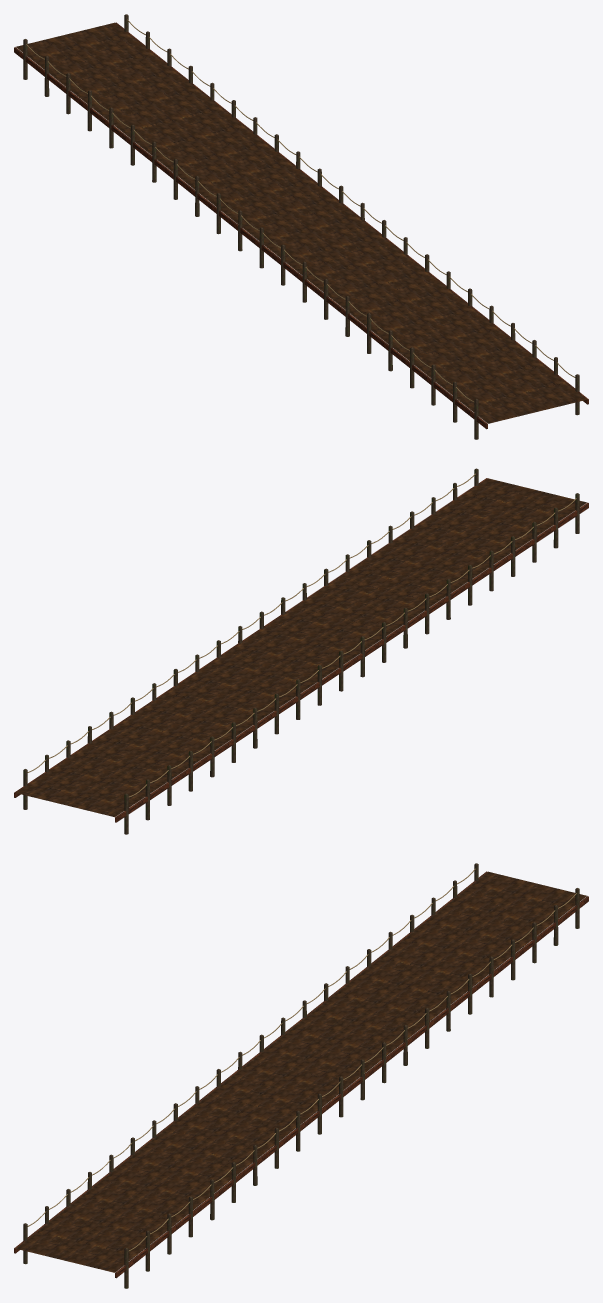
File: sp_boardwalk.glb
3 renders of one model, top to bottom at view 1: azimuth 30°, elevation 25°; view 2: azimuth 150°, elevation 25°; view 3: azimuth 330°, elevation 25°, orthographic.
Parts seen in each view (by area): view 1: spire; view 2: spire; view 3: spire.
Part boxes in pixels (left/top/right/bottom): spire: left=14, top=14, right=588, bottom=439; spire: left=14, top=468, right=588, bottom=834; spire: left=14, top=863, right=588, bottom=1288.
Size of the model in its own units: 8.46 by 5.39 by 66.01.
Materials: 4 (4 with a texture image).
